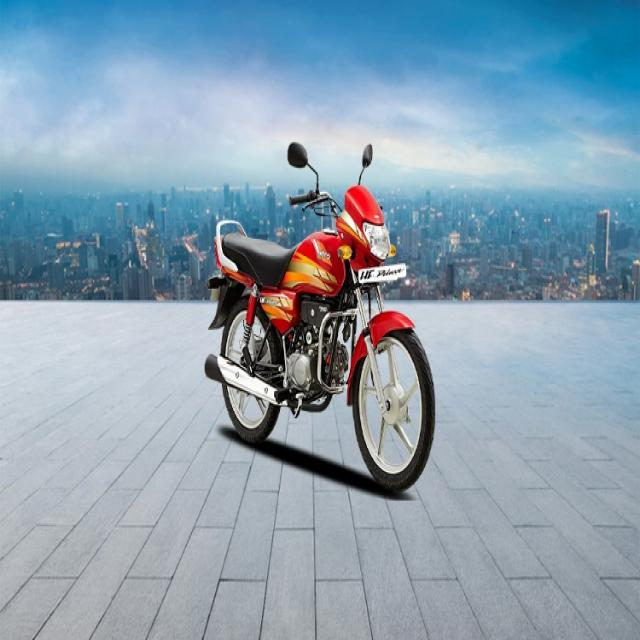MOTORCYCLE: (205, 187, 434, 498)
